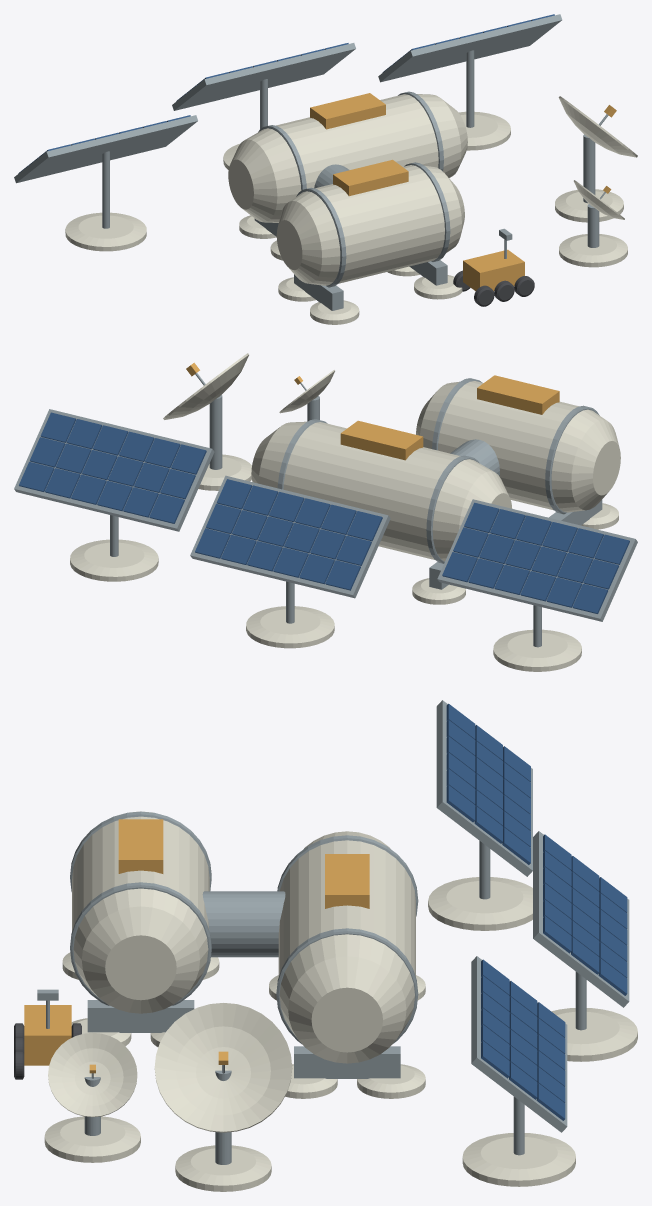
File: ilrs.glb
3 renders of one model, top to bottom at view 1: azimuth 30°, elevation 25°; view 2: azimuth 150°, elevation 25°; view 3: azimuth 270°, elevation 25°, orthographic. The views are drawn at different scales.
Parts seen in each view (by area): view 1: Science module, Column, Science package, Rover wheel, Photovoltaic cell; view 2: Science module, Photovoltaic cell, Column, Science package; view 3: Science module, Column, Photovoltaic cell, Science package, Rover wheel.
Boxes of the visible parts, box(x1,y1,x2,y2) form: Science module: box(65, 94, 637, 324); Column: box(14, 14, 608, 310); Science package: box(310, 93, 616, 291); Rover wheel: box(453, 270, 534, 306); Photovoltaic cell: box(18, 14, 554, 173); Science module: box(70, 353, 620, 671); Photovoltaic cell: box(19, 412, 629, 613); Column: box(14, 373, 637, 647); Science package: box(186, 362, 559, 460); Science module: box(44, 811, 637, 1191); Column: box(37, 700, 629, 1164); Photovoltaic cell: box(446, 703, 627, 1120); Science package: box(24, 819, 369, 1073); Rover wheel: box(14, 1023, 81, 1079).
Size of the model in its own units: 1.59 by 0.3392 by 1.17.
